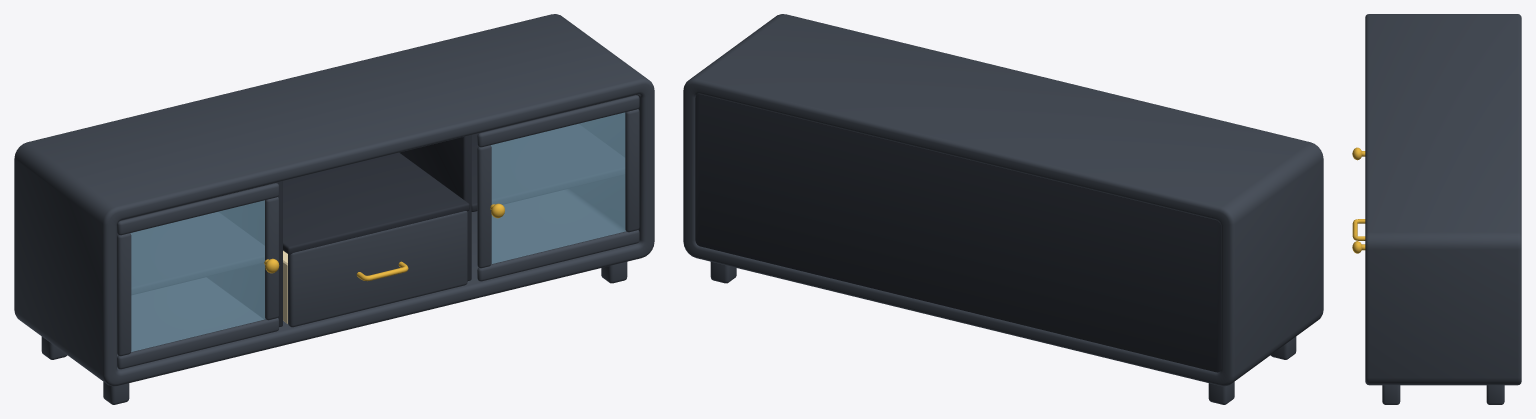
Rendered from rack_vidro_grafite.glb.
3 renders of one model, left to right at view 1: azimuth 30°, elevation 25°; view 2: azimuth 150°, elevation 25°; view 3: azimuth 270°, elevation 25°, orthographic. The views are drawn at different scales.
Visible parts, largest first — view 1: rack_vidro_grafite, porta_2, porta_1, gaveta_1; view 2: rack_vidro_grafite; view 3: rack_vidro_grafite, gaveta_1.
Boxes of the visible parts, x1,y1,x2,y2 form: rack_vidro_grafite: (14, 14, 654, 404); porta_2: (477, 95, 639, 281); porta_1: (117, 183, 279, 369); gaveta_1: (283, 211, 467, 327); rack_vidro_grafite: (683, 14, 1323, 404); rack_vidro_grafite: (1365, 14, 1521, 404); gaveta_1: (1352, 219, 1365, 240).
Bounding box in the file's own units: 1.45 × 0.52 × 0.4546.
Materials: 2 (1 with a texture image).
